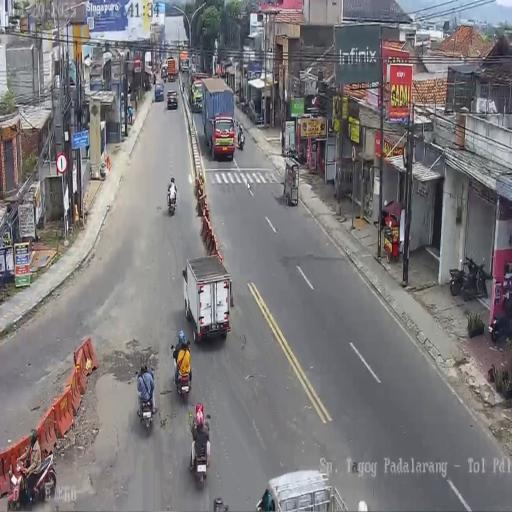car: (189, 77, 204, 112), (167, 89, 178, 109), (154, 82, 164, 101), (190, 64, 196, 76)
motorcycle: (8, 450, 56, 510), (450, 253, 484, 299), (189, 416, 210, 488), (137, 373, 156, 434), (490, 306, 512, 344), (167, 186, 177, 216), (237, 120, 245, 150), (153, 72, 156, 86)
truck: (182, 257, 232, 345), (200, 77, 235, 160), (164, 56, 176, 82), (180, 54, 189, 72)
